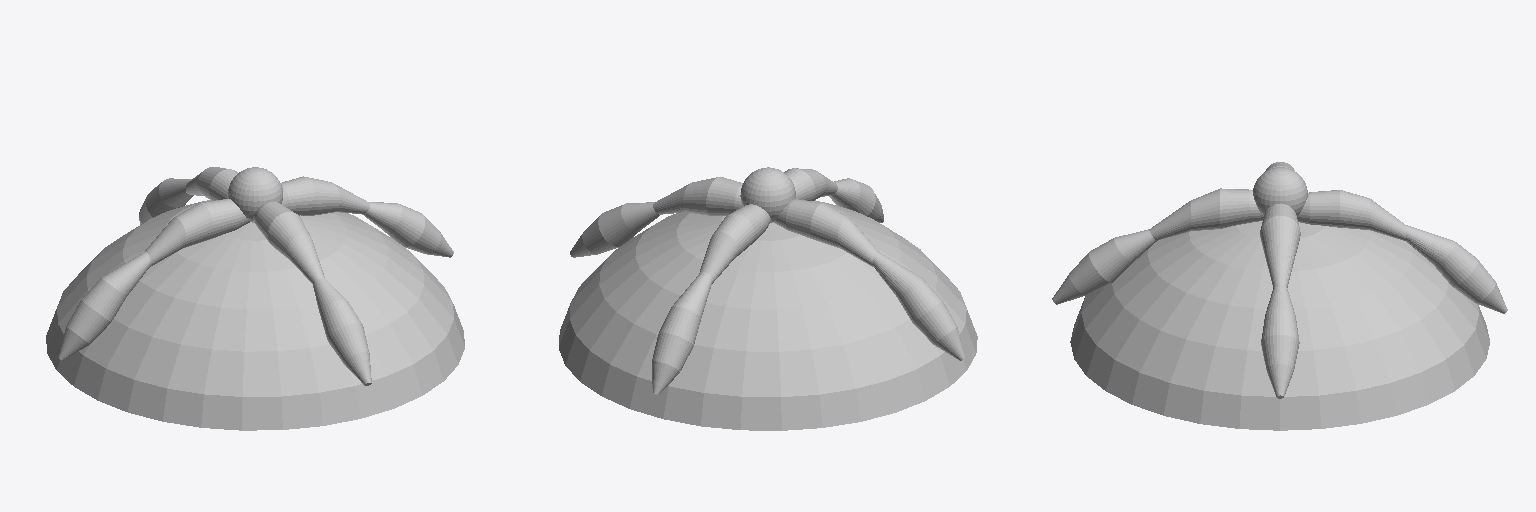
Rendered from pan_muerto.obj.
3 views of the same model, side by side, from view 1: azimuth 30°, elevation 25°; view 2: azimuth 150°, elevation 25°; view 3: azimuth 270°, elevation 25° (orthographic).
Visible parts, largest first — view 1: Sphere.001; view 2: Sphere.001; view 3: Sphere.001.
Part boxes in pixels (bbox=[...]): Sphere.001: bbox=[46, 167, 464, 430]; Sphere.001: bbox=[559, 167, 977, 430]; Sphere.001: bbox=[1052, 162, 1507, 430].
Bounding box in the file's own units: 1.9 × 0.7944 × 1.9.